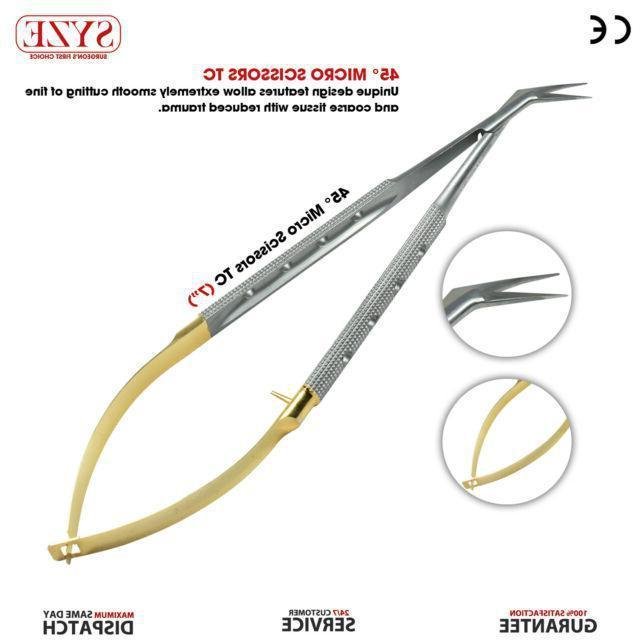Potts: (49, 79, 593, 571)
